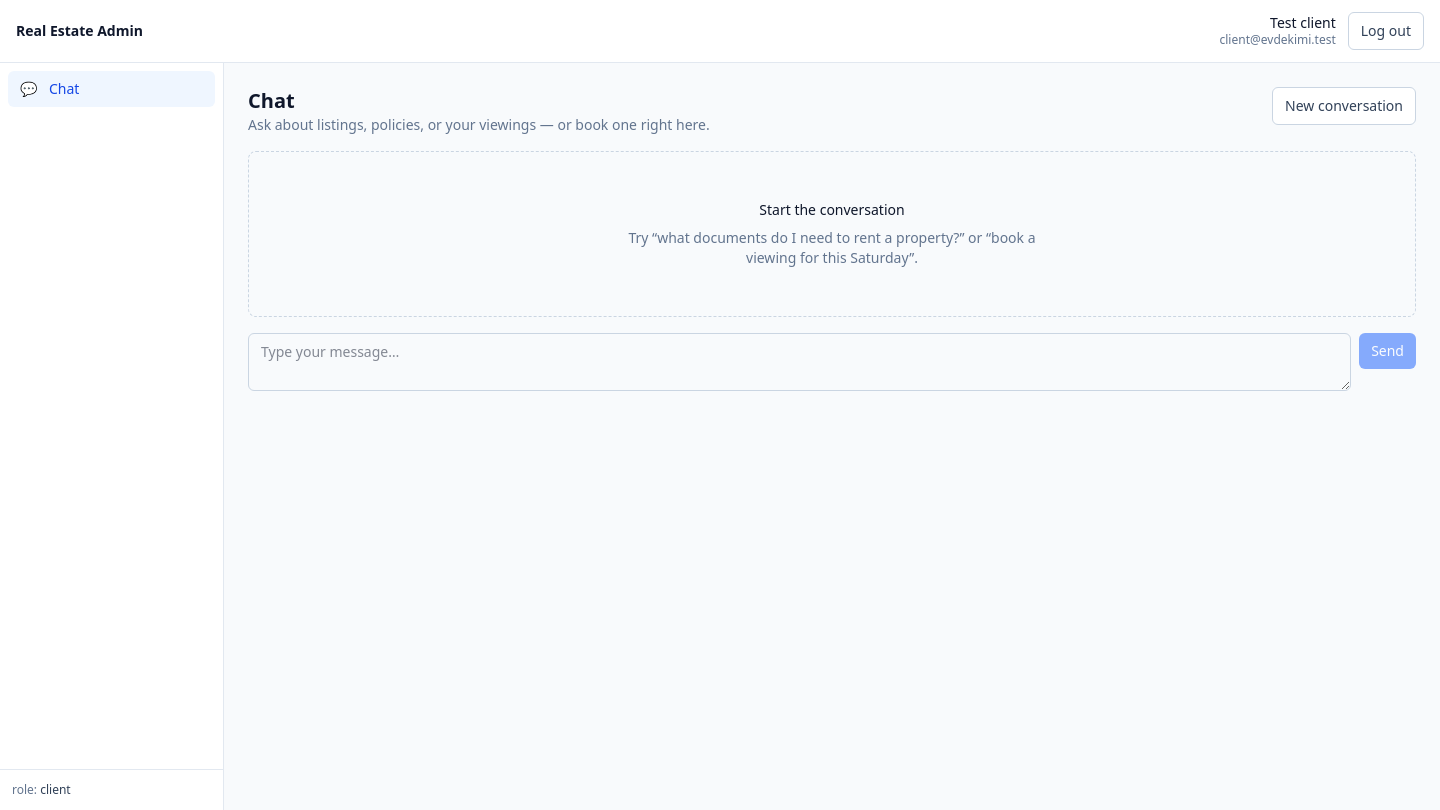
ChatPage › never shows the tool_calls trace — this is the client-facing screen, not the inspector
Type "Book a viewing for prop-1 on Saturday morning" into the text box labelled "message" at (800, 362), box [248,333,1351,391]
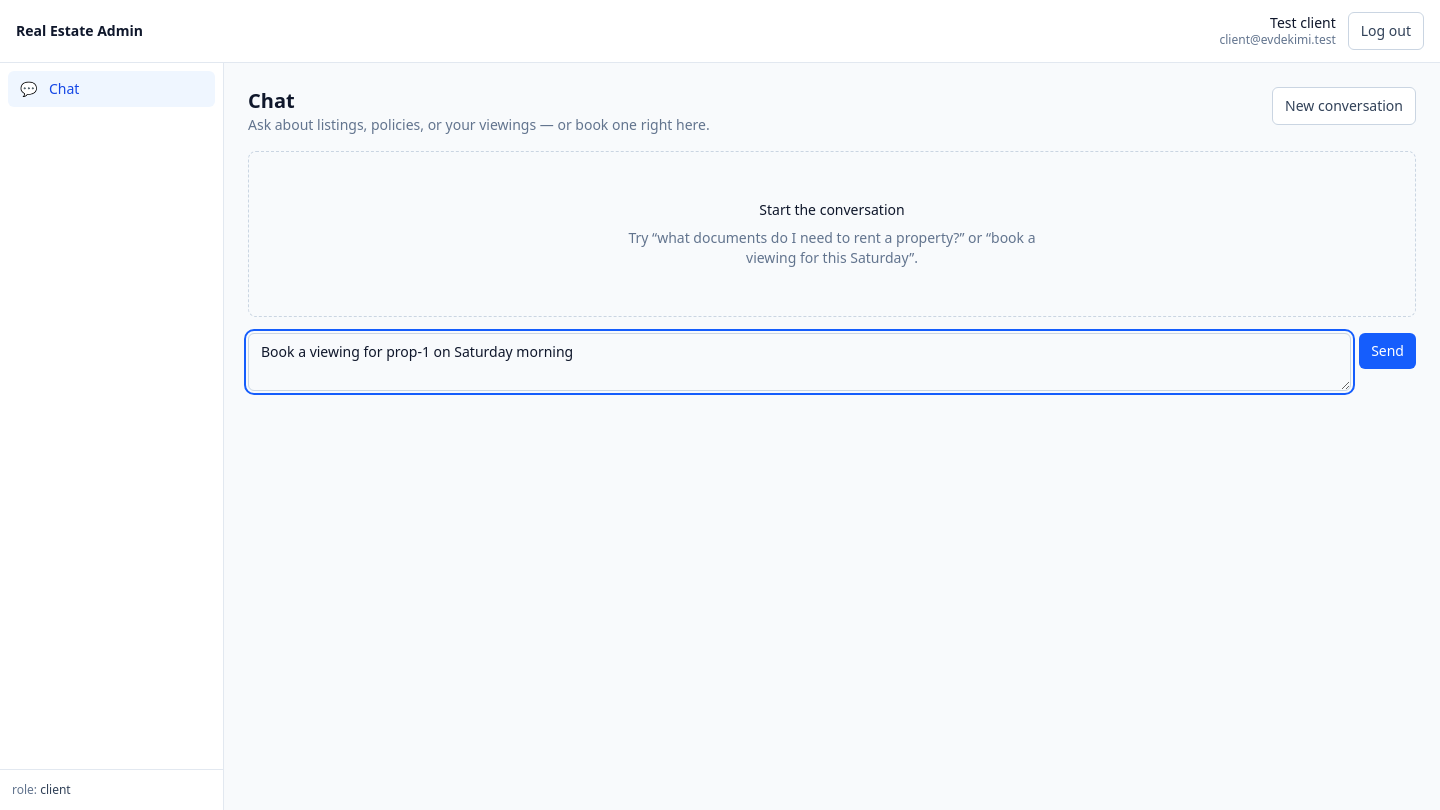
Click the button "Send" at (1388, 351), box [1359,333,1416,369]
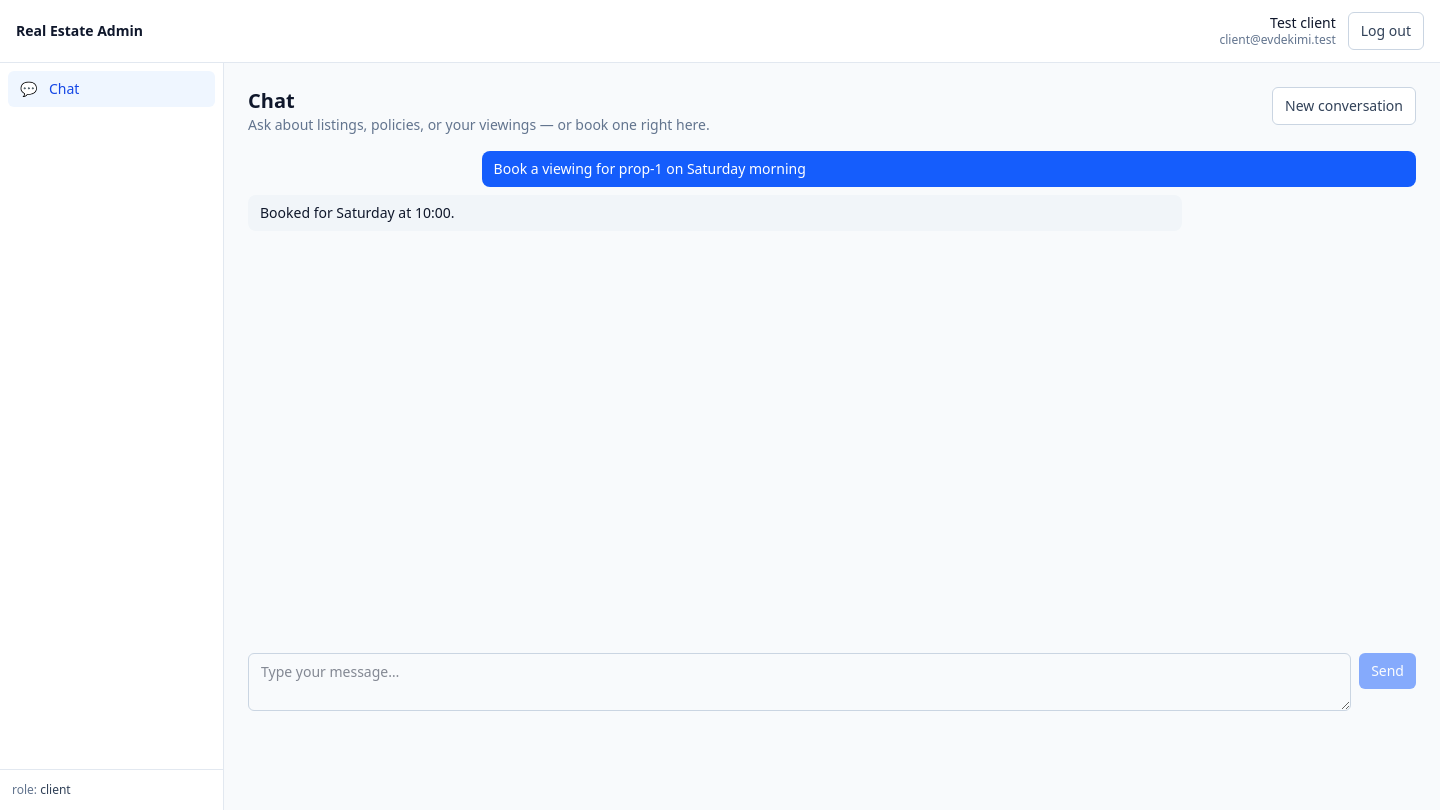
Now the text "Booked for Saturday at 10:00." is shown, box [248,195,1182,231]
